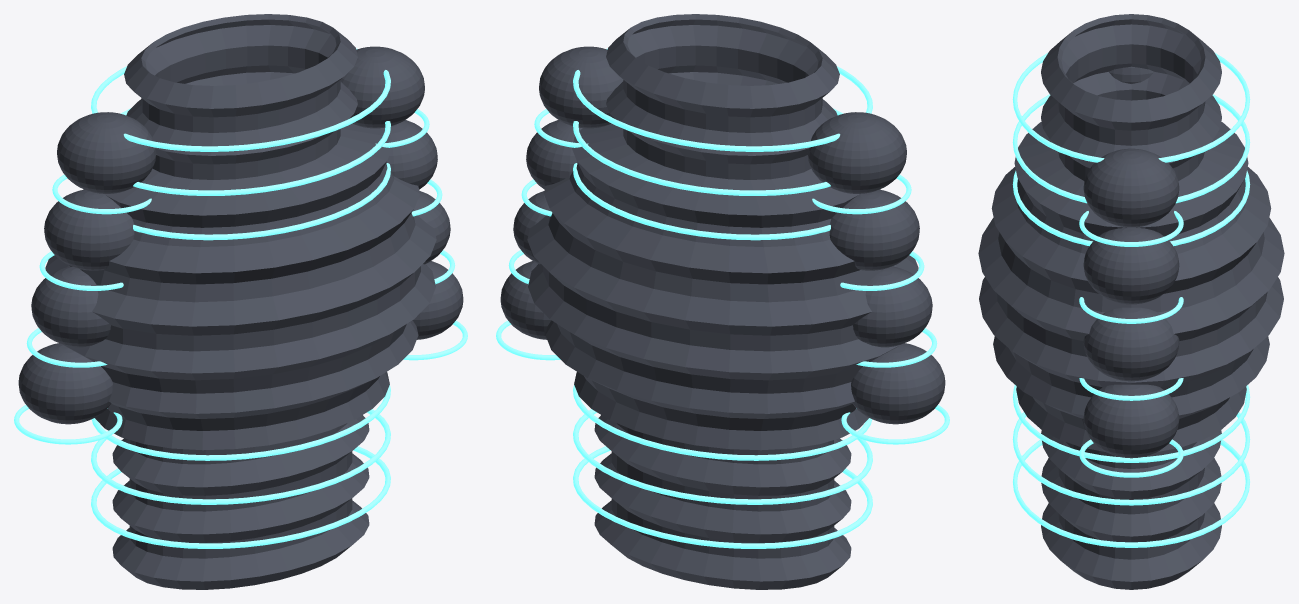
File: garment_neural_puffer.glb
3 renders of one model, left to right at view 1: azimuth 30°, elevation 25°; view 2: azimuth 150°, elevation 25°; view 3: azimuth 270°, elevation 25°, orthographic. The views are drawn at different scales.
Visible parts, largest first — view 1: Puffer_Torso, Puffer_Sleeve_Baffle_-1_0, Puffer_Sleeve_Baffle_-1_3, Puffer_Sleeve_Baffle_-1_1, Puffer_Sleeve_Baffle_1_0, Puffer_Sleeve_Baffle_-1_2, Biolum_Pipe_10, Puffer_Sleeve_Baffle_1_1, Biolum_Pipe_9, Biolum_Pipe_1, Puffer_Sleeve_Baffle_1_3, Biolum_Pipe_8 (+7 smaller); view 2: Puffer_Torso, Puffer_Sleeve_Baffle_-1_0, Puffer_Sleeve_Baffle_-1_3, Puffer_Sleeve_Baffle_-1_1, Puffer_Sleeve_Baffle_1_0, Puffer_Sleeve_Baffle_-1_2, Biolum_Pipe_10, Puffer_Sleeve_Baffle_1_1, Biolum_Pipe_9, Biolum_Pipe_1, Puffer_Sleeve_Baffle_1_3, Biolum_Pipe_8 (+7 smaller); view 3: Puffer_Torso, Puffer_Sleeve_Baffle_1_0, Puffer_Sleeve_Baffle_1_1, Puffer_Sleeve_Baffle_1_3, Puffer_Sleeve_Baffle_1_2, Biolum_Pipe_10, Biolum_Pipe_9, Biolum_Pipe_1, Biolum_Pipe_8, Biolum_Pipe_2, Biolum_Pipe_3, Sleeve_Neon_1_3 (+4 smaller).
Part boxes in pixels (x1,y1,x2,y2): Puffer_Torso: [45, 14, 436, 589]; Puffer_Sleeve_Baffle_-1_0: [57, 112, 156, 193]; Puffer_Sleeve_Baffle_-1_3: [18, 343, 112, 424]; Puffer_Sleeve_Baffle_-1_1: [44, 189, 134, 270]; Puffer_Sleeve_Baffle_1_0: [340, 46, 424, 128]; Puffer_Sleeve_Baffle_-1_2: [31, 266, 110, 347]; Biolum_Pipe_10: [91, 446, 390, 548]; Puffer_Sleeve_Baffle_1_1: [381, 120, 437, 189]; Biolum_Pipe_9: [91, 409, 390, 504]; Biolum_Pipe_1: [91, 48, 390, 151]; Puffer_Sleeve_Baffle_1_3: [412, 261, 463, 339]; Biolum_Pipe_8: [91, 385, 390, 460]; Puffer_Torso: [527, 14, 918, 589]; Puffer_Sleeve_Baffle_-1_0: [807, 112, 906, 193]; Puffer_Sleeve_Baffle_-1_3: [851, 343, 945, 424]; Puffer_Sleeve_Baffle_-1_1: [829, 189, 919, 270]; Puffer_Sleeve_Baffle_1_0: [539, 46, 623, 128]; Puffer_Sleeve_Baffle_-1_2: [853, 266, 932, 347]; Biolum_Pipe_10: [573, 446, 872, 548]; Puffer_Sleeve_Baffle_1_1: [526, 120, 582, 189]; Biolum_Pipe_9: [573, 409, 872, 504]; Biolum_Pipe_1: [573, 48, 872, 151]; Puffer_Sleeve_Baffle_1_3: [500, 261, 551, 339]; Biolum_Pipe_8: [573, 385, 872, 460]; Puffer_Torso: [978, 14, 1284, 589]; Puffer_Sleeve_Baffle_1_0: [1083, 148, 1179, 227]; Puffer_Sleeve_Baffle_1_1: [1083, 227, 1179, 304]; Puffer_Sleeve_Baffle_1_3: [1083, 384, 1179, 458]; Puffer_Sleeve_Baffle_1_2: [1083, 307, 1179, 381]; Biolum_Pipe_10: [1013, 439, 1249, 547]; Biolum_Pipe_9: [1012, 412, 1250, 505]; Biolum_Pipe_1: [1012, 52, 1250, 162]; Biolum_Pipe_8: [1012, 385, 1250, 462]; Biolum_Pipe_2: [1012, 94, 1250, 203]; Biolum_Pipe_3: [1012, 170, 1250, 246]; Sleeve_Neon_1_3: [1079, 439, 1183, 477].
Bounding box in the file's own units: 1.37 × 1.5 × 0.861.
